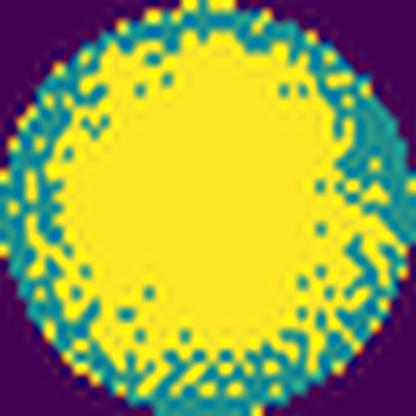Center: (51, 31, 358, 354)
